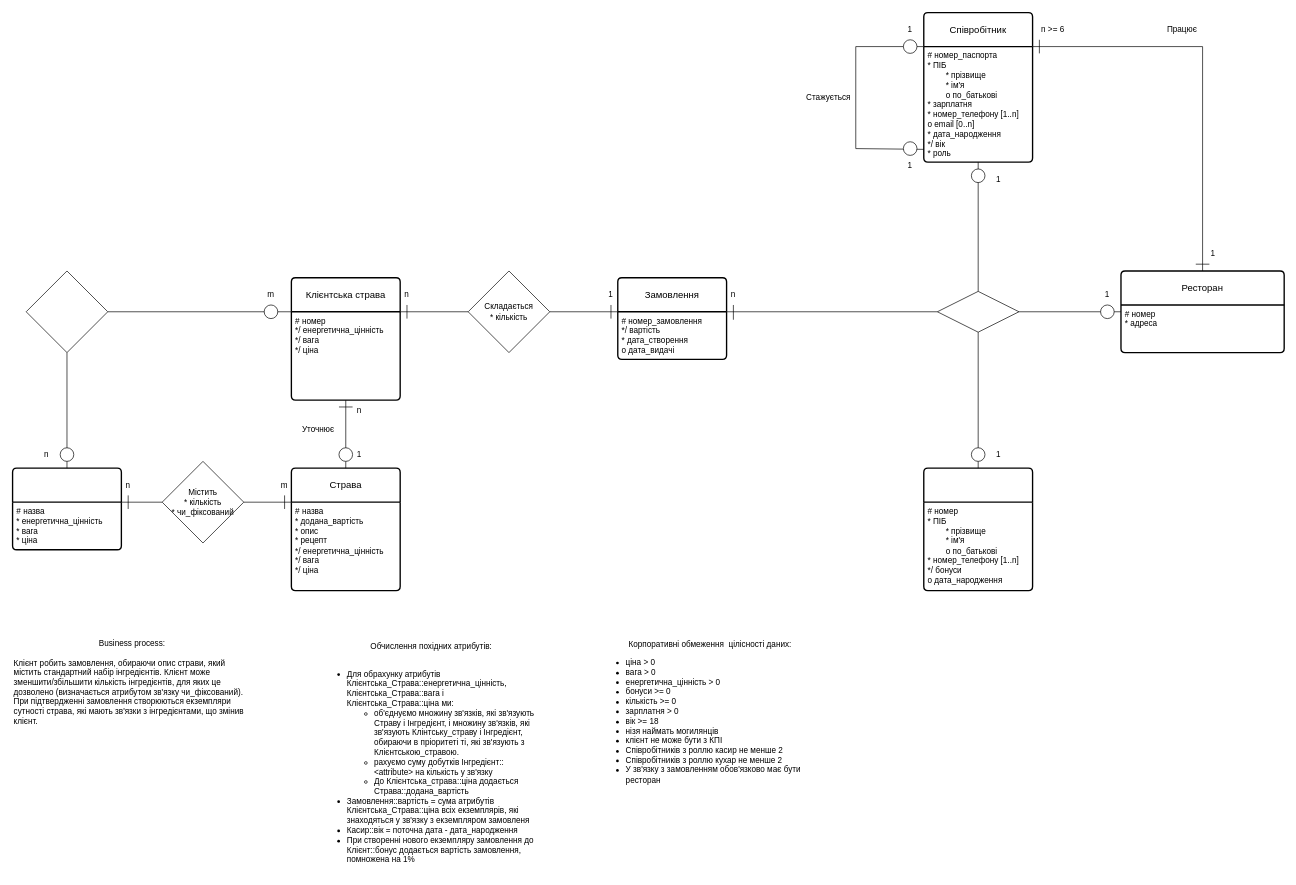
Image size: 1296x885. Some labels were removed from this diagram. The shapes that lost their labels are listed below. From the top down, each one's box as (x1, y1, x2, y2) in pixels, then its label:
(26, 270, 108, 353): Додається * кількість
(937, 291, 1019, 332): Оформлено
(12, 467, 122, 550): Інгредієнт
(923, 467, 1033, 591): Клієнт
